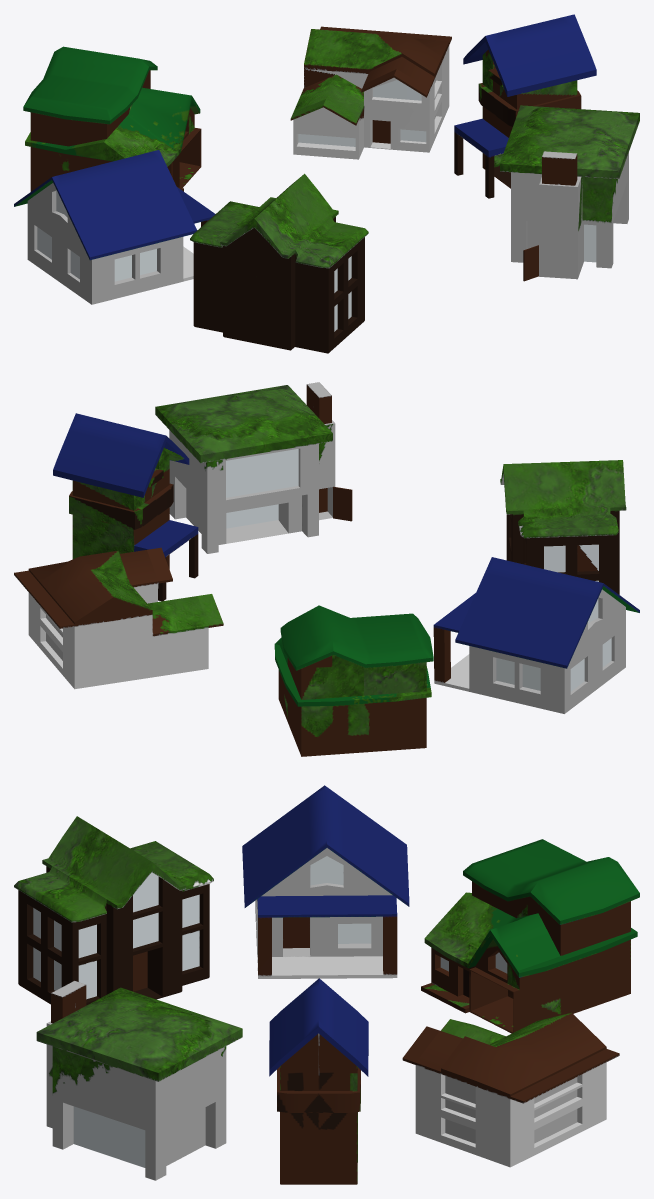
The model's file is protopian_houses.glb.
3 views of the same model, one above another, from view 1: azimuth 30°, elevation 25°; view 2: azimuth 150°, elevation 25°; view 3: azimuth 270°, elevation 25° (orthographic). The views are drawn at different scales.
Visible parts, largest first — view 1: houses-uv-mapped; view 2: houses-uv-mapped; view 3: houses-uv-mapped.
Part boxes in pixels (x1,y1,x2,y2): houses-uv-mapped: (14, 14, 639, 353); houses-uv-mapped: (14, 382, 639, 756); houses-uv-mapped: (14, 785, 639, 1184).
Bounding box in the file's own units: 35.35 × 9.63 × 32.89.
1 material, 1 textured.
